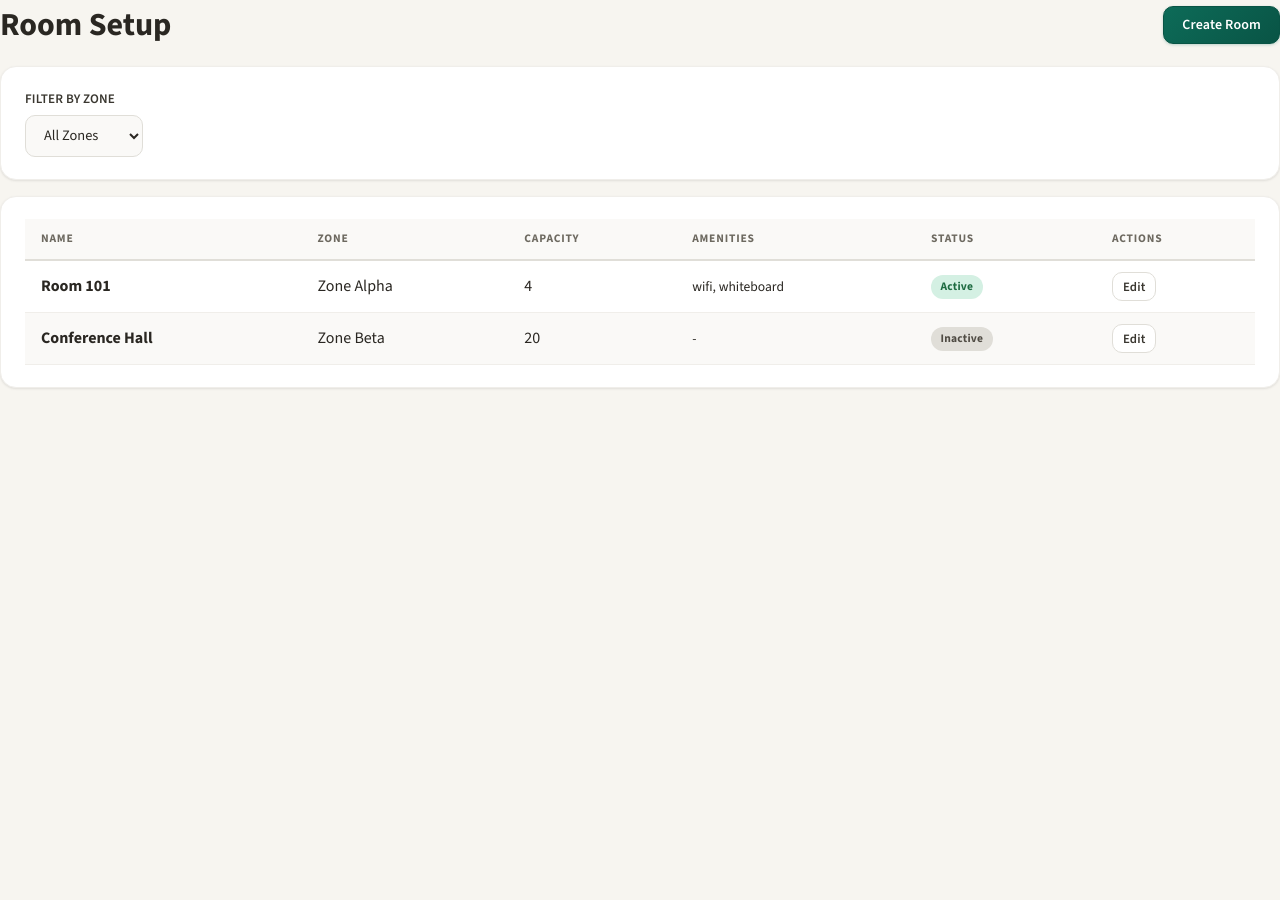
Scenario: RoomSetupPage › Edit Room modal › opens Edit Room modal with pre-filled data when Edit is clicked
What coordinates should you click on to do the following:
click the button "Edit" in the row of "Room 101"
I would click on:
 (1134, 286)
Its box is x1=1112 y1=272 x2=1156 y2=301.
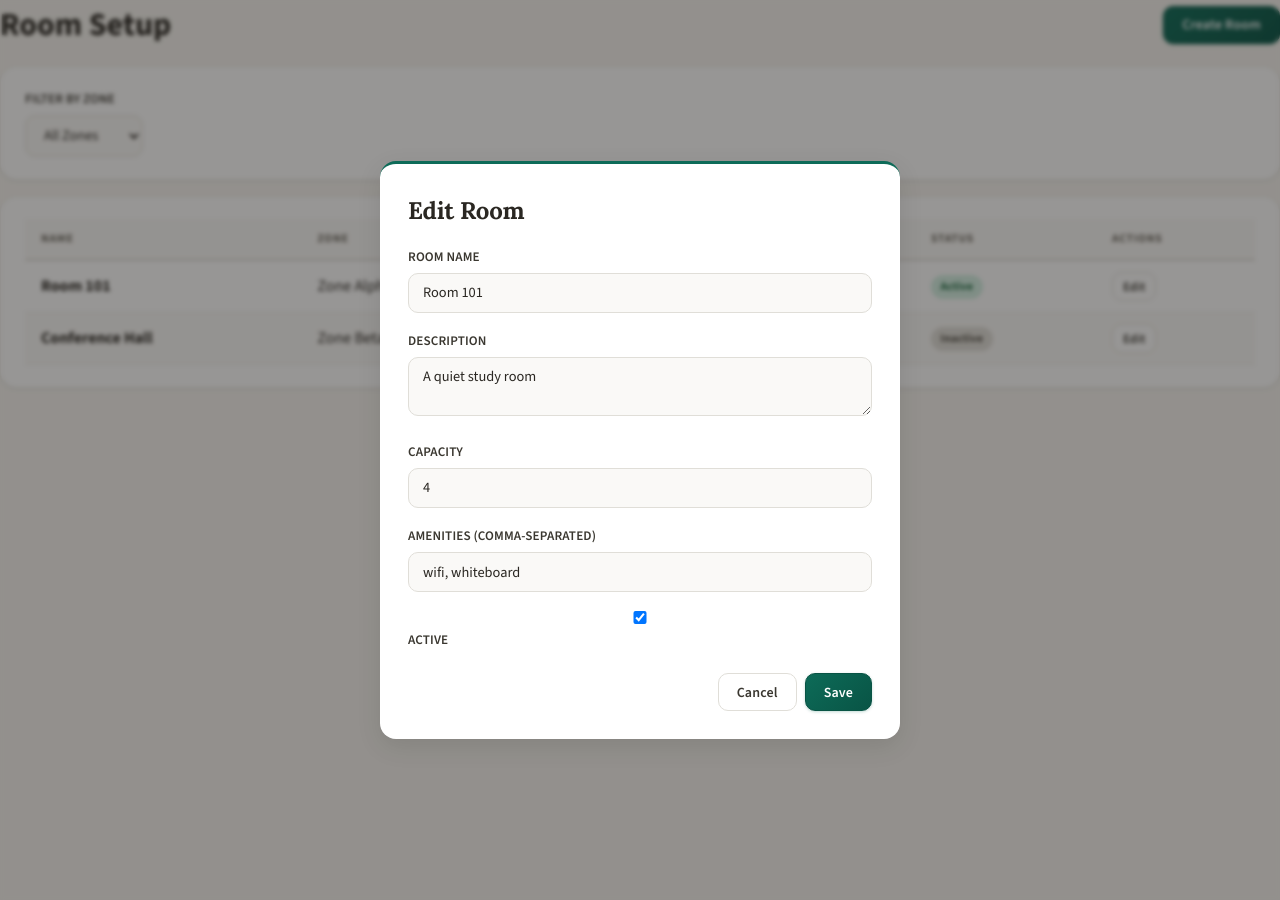
expect the heading "Edit Room" is shown: met, box x1=408 y1=195 x2=524 y2=226
expect the field showing "Room 101" below "Room Name" is shown: met, box x1=408 y1=273 x2=872 y2=313
